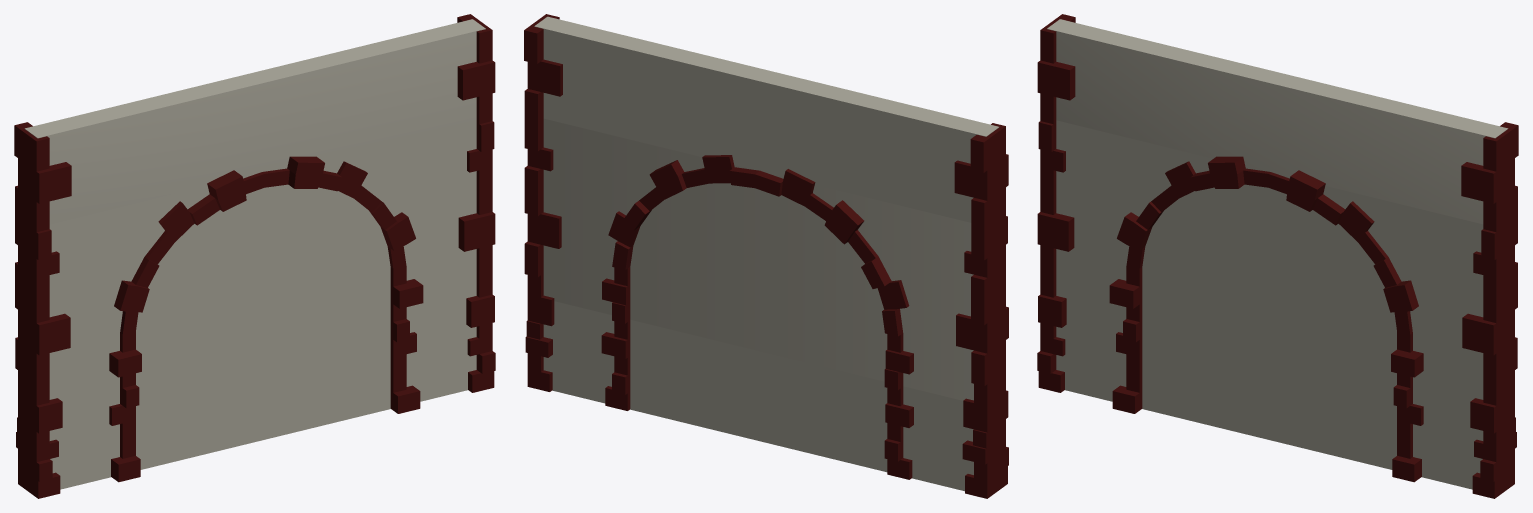
Rendered from Wall.fbx.
3 views of the same model, side by side, from view 1: azimuth 30°, elevation 25°; view 2: azimuth 150°, elevation 25°; view 3: azimuth 330°, elevation 25° (orthographic).
Parts seen in each view (by area): view 1: Wall; view 2: Wall; view 3: Wall.
Boxes of the visible parts, x1,y1,x2,y2 form: Wall: (14, 14, 495, 498); Wall: (524, 14, 1008, 498); Wall: (1037, 14, 1518, 498).
Bounding box in the file's own units: 423 × 316 × 46.65.
1 material, 1 textured.
